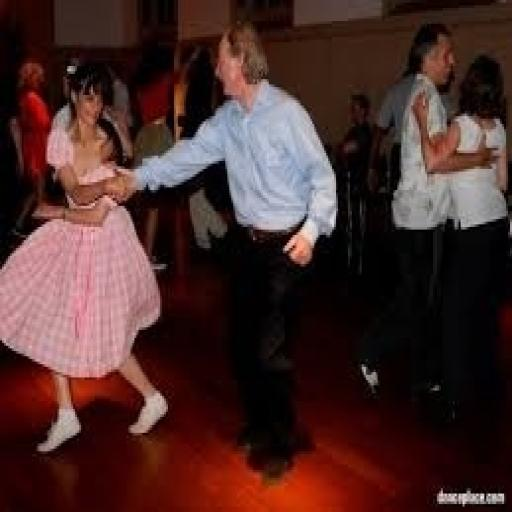dancing: (109, 18, 342, 483), (0, 56, 172, 460)
